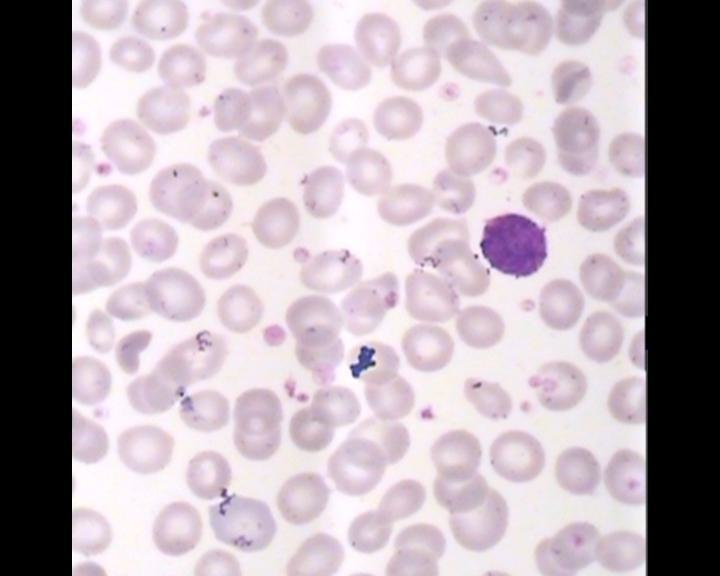baso: (474, 210, 554, 283)
